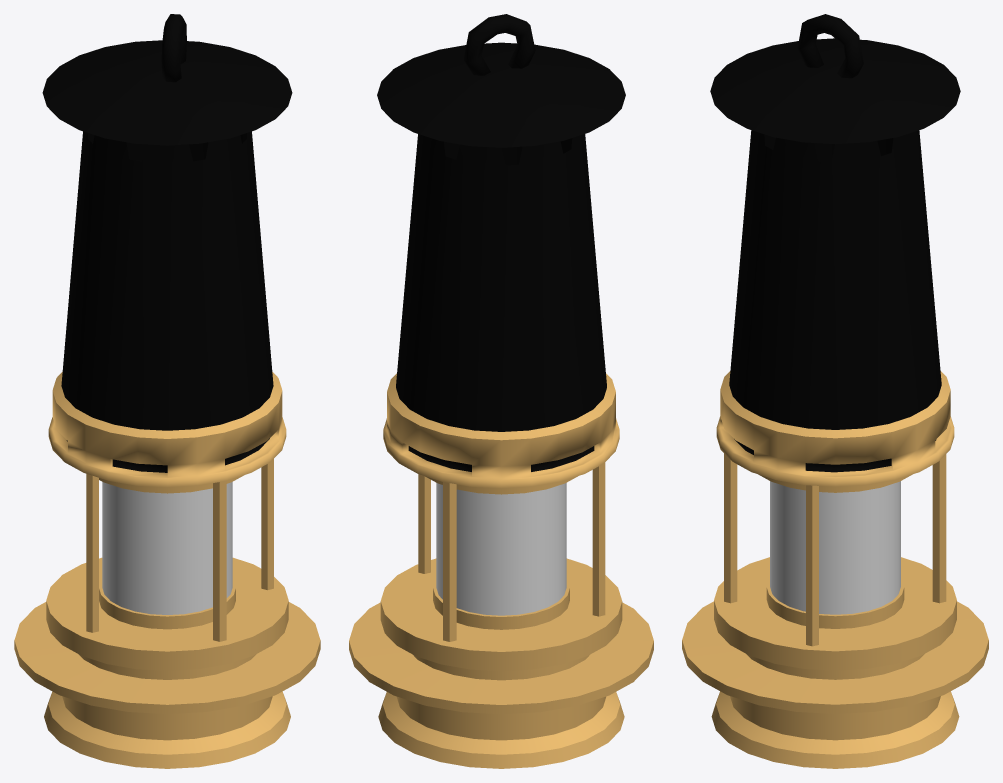
File: lamp.fbx
3 views of the same model, side by side, from view 1: azimuth 30°, elevation 25°; view 2: azimuth 150°, elevation 25°; view 3: azimuth 270°, elevation 25° (orthographic).
Parts seen in each view (by area): view 1: Cylinder; view 2: Cylinder; view 3: Cylinder.
Boxes of the visible parts, left/top/right/bottom form: Cylinder: left=14, top=14, right=320, bottom=768; Cylinder: left=349, top=14, right=653, bottom=768; Cylinder: left=682, top=14, right=988, bottom=768.
Size of the model in its own units: 13.87 by 34.96 by 13.87.
